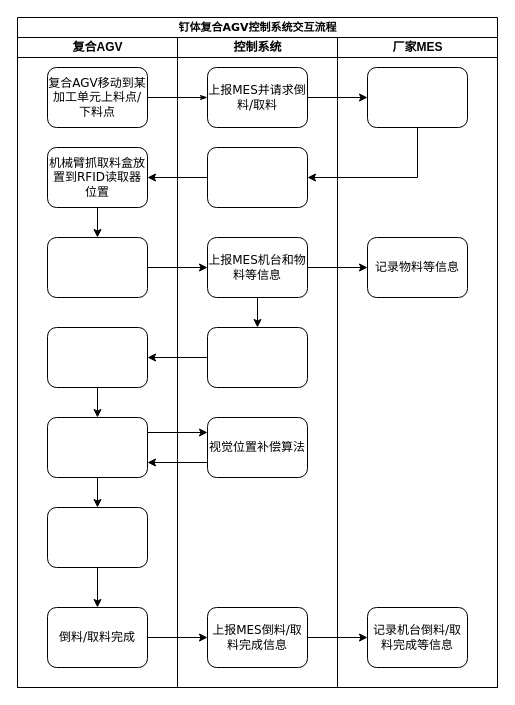
The diagram is 515 pixels wide and 705 high, and some of its shapes have lost their labels. The shapes that lost their labels are listed below. From the top down, each one's box as (x1, y1, x2, y2) in pixels, then its label:
(366, 66, 468, 128): 允许倒料/取料
(206, 146, 308, 208): 下发指令给机械臂
(46, 236, 148, 298): RFID读取器读取/写入料盒物料信息
(46, 326, 148, 388): 机械臂移动到倒料/取料位置上方
(206, 326, 308, 388): 下发指令给机械臂开始倒料/取料
(46, 416, 148, 478): 机械臂上的视觉开始定位倒料/取料点位进行位置补偿
(46, 506, 148, 568): 机械臂开始倒料/取料
